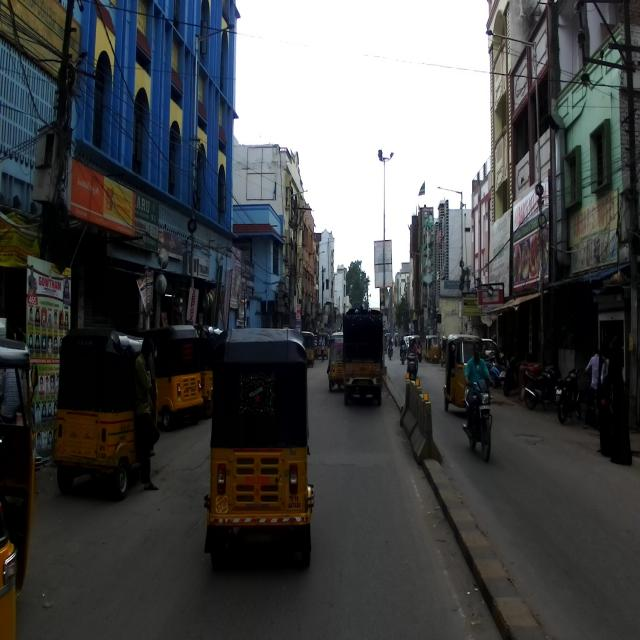autorickshaw: (202, 326, 314, 572), (52, 328, 158, 505), (141, 320, 203, 430)
motorcycle: (462, 377, 494, 462), (554, 363, 584, 423)
truck: (343, 304, 385, 406)
